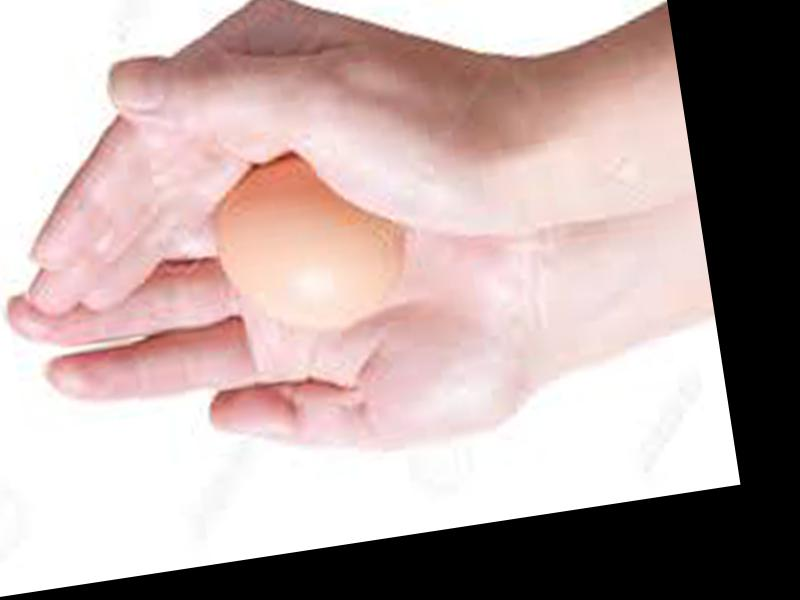Eggs: (207, 147, 404, 335)
